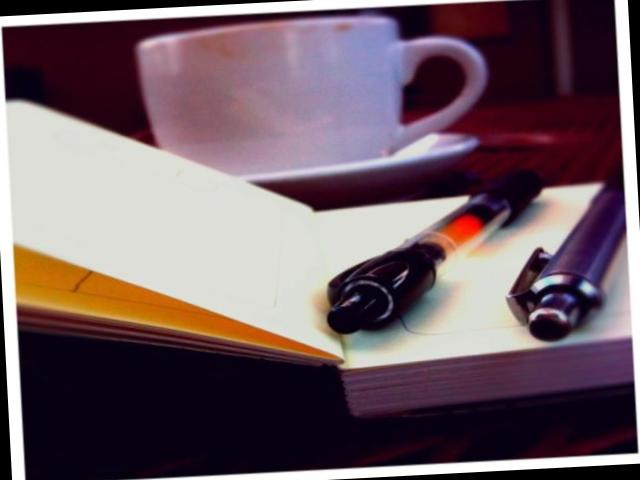PEN: (298, 114, 554, 367)
